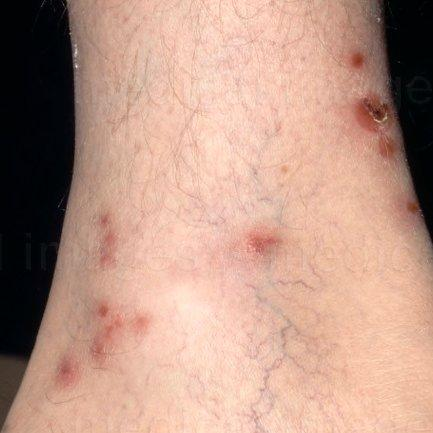Fleas: (218, 222, 283, 264), (350, 88, 400, 133), (88, 317, 127, 371), (94, 212, 118, 271), (122, 308, 159, 344), (376, 134, 405, 162), (339, 51, 369, 74), (57, 355, 79, 386), (96, 302, 116, 322)
